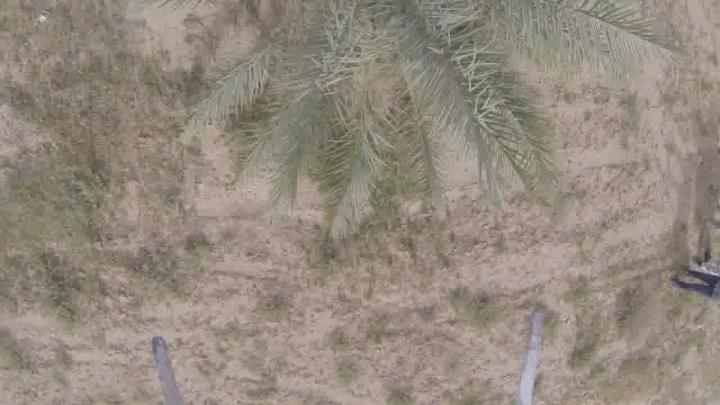Date-Palm-Crown: (300, 0, 543, 102)
